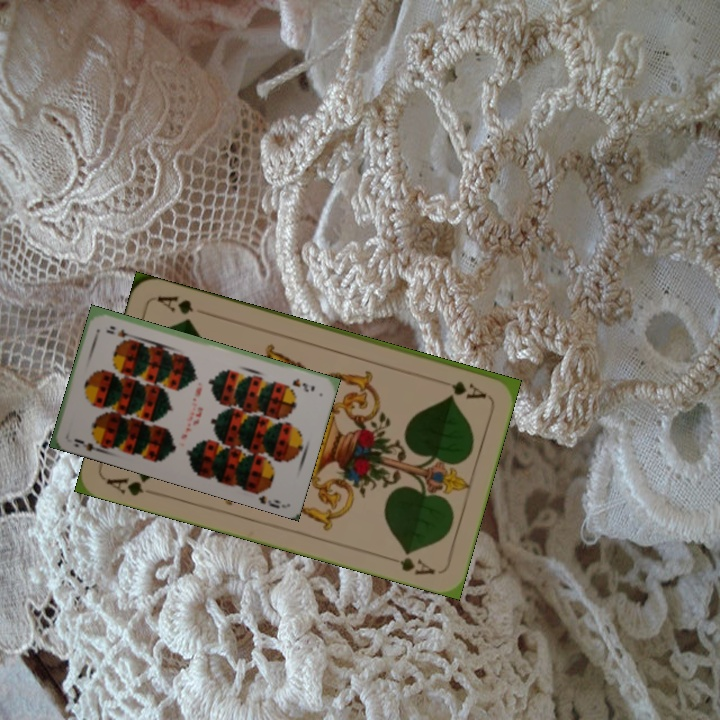GA: (102, 473, 152, 499), (447, 377, 489, 402)
S9: (70, 434, 106, 455), (288, 374, 317, 394)
